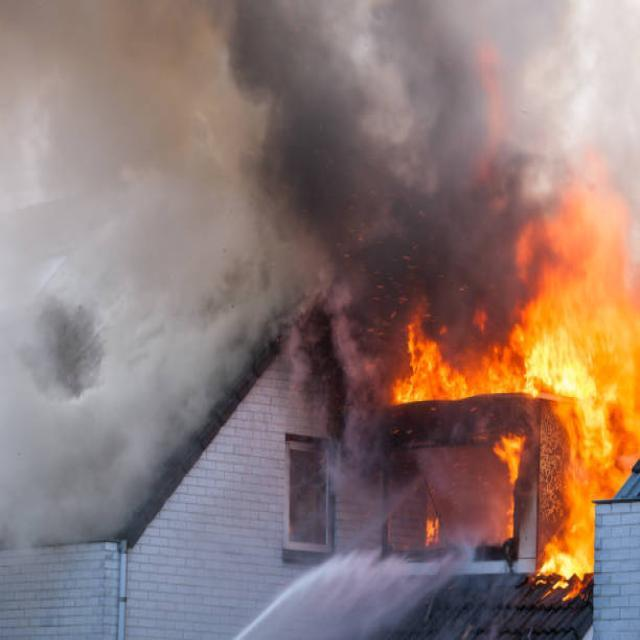Fire: (423, 213, 640, 569)
Smoke: (1, 0, 640, 334), (0, 267, 137, 536), (334, 303, 426, 504)
